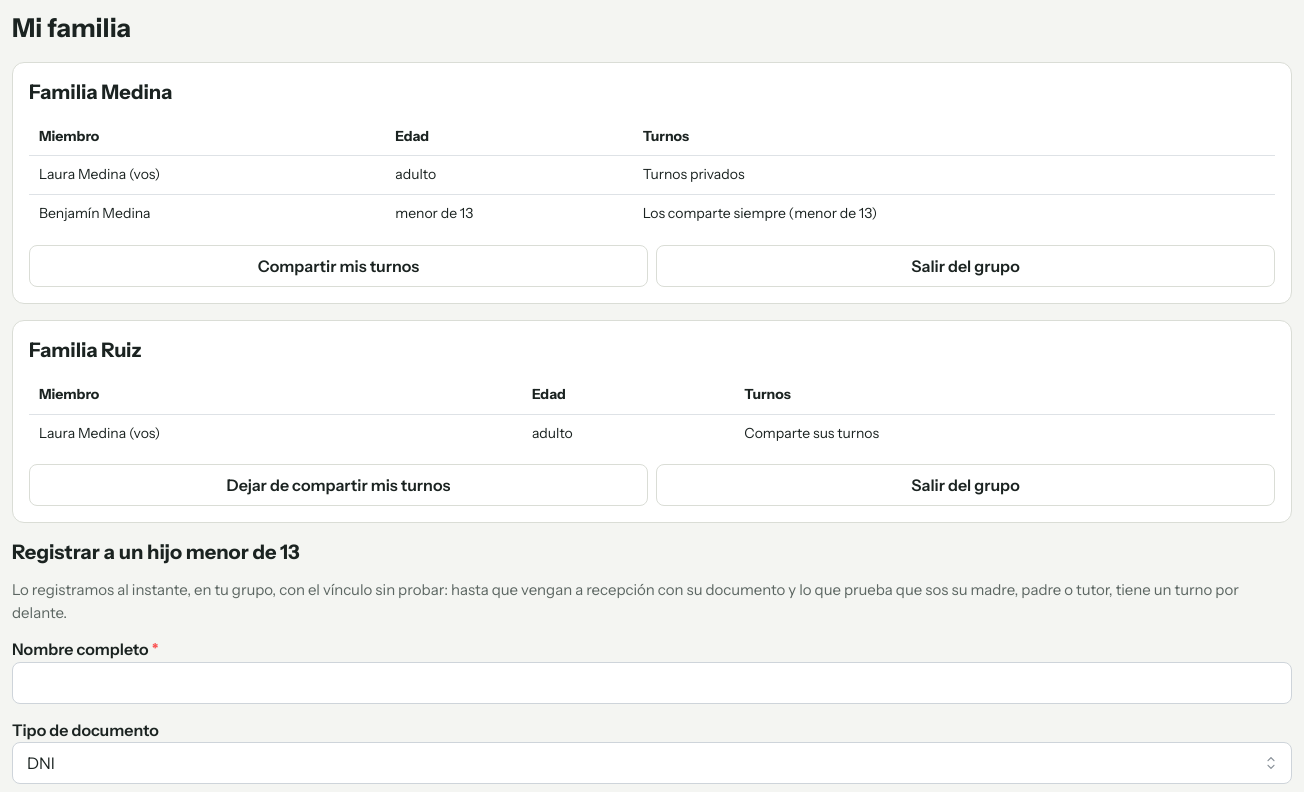
Test case: Mi familia › lists each group's members, and shares or stops sharing the patient's own
The width and height of the screenshot is (1304, 792).
Expected: the element "Familia Medina" shows "Laura Medina (vos)", left=39, top=166, right=160, bottom=184
Expected: the element "Familia Medina" shows "Los comparte siempre (menor de 13)", left=643, top=204, right=877, bottom=222
Step 1. Click the button "Compartir mis turnos" → (338, 266), box left=29, top=245, right=648, bottom=287
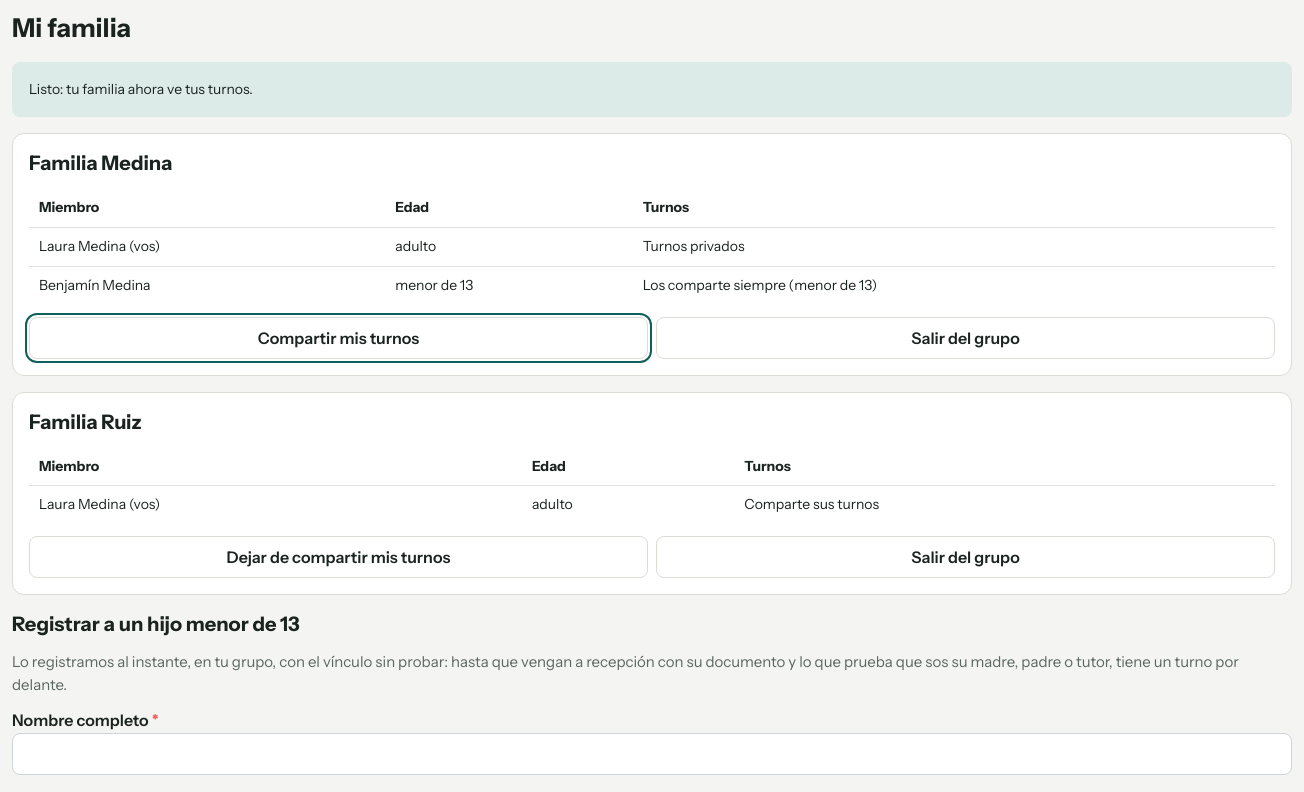
Now the message reads "Listo: tu familia ahora ve tus turnos.", box left=29, top=80, right=253, bottom=98
Step 2. Click the button "Dejar de compartir mis turnos" → (338, 557), box left=29, top=536, right=648, bottom=578
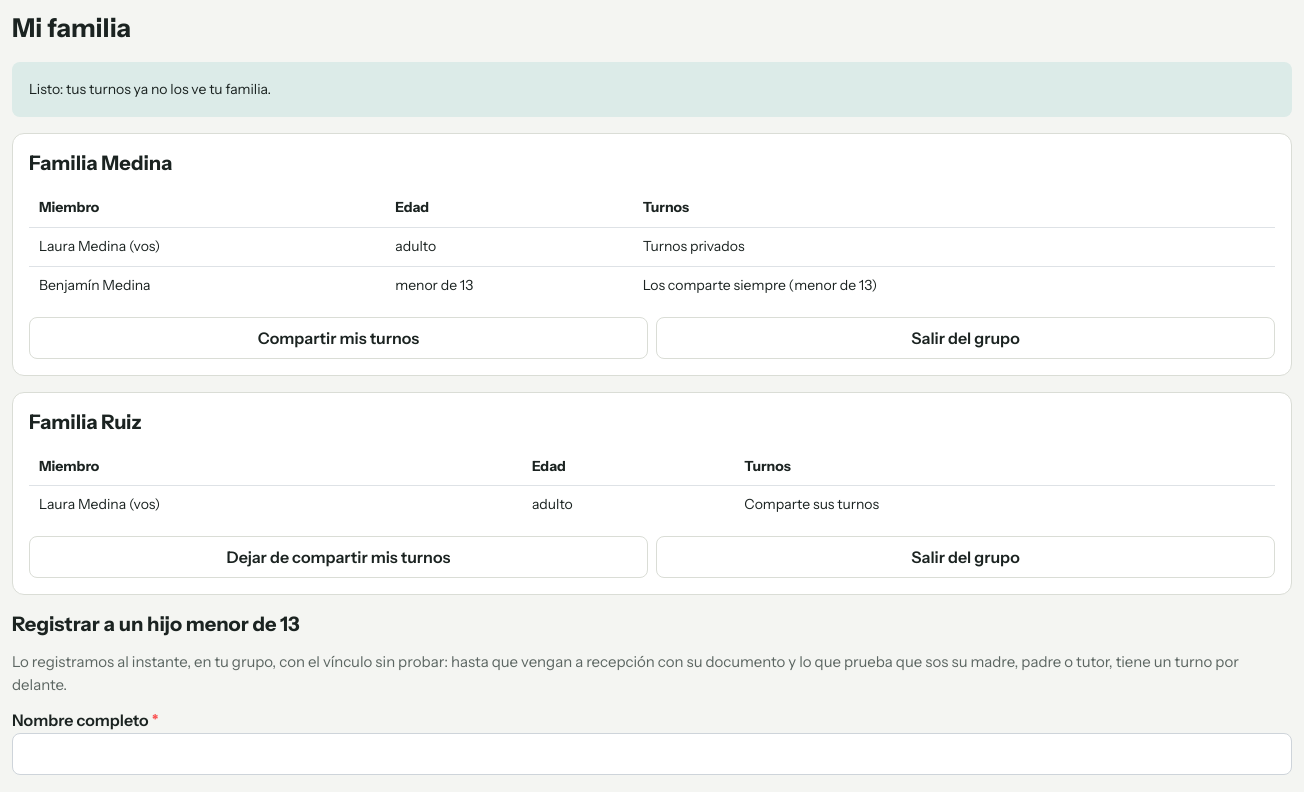
Now the text "Listo: tus turnos ya no los ve tu familia." is shown, box left=29, top=80, right=271, bottom=98
